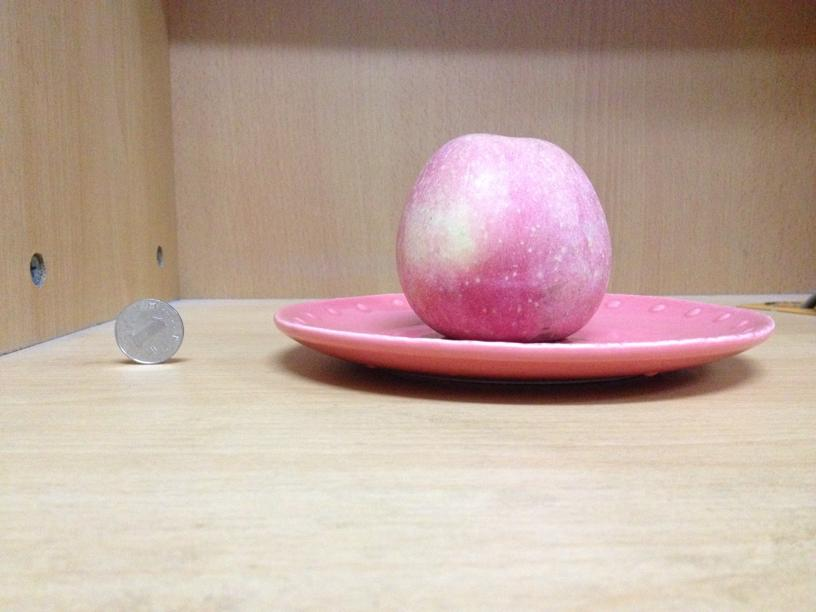apple: (394, 131, 613, 341)
coin: (114, 297, 183, 363)
